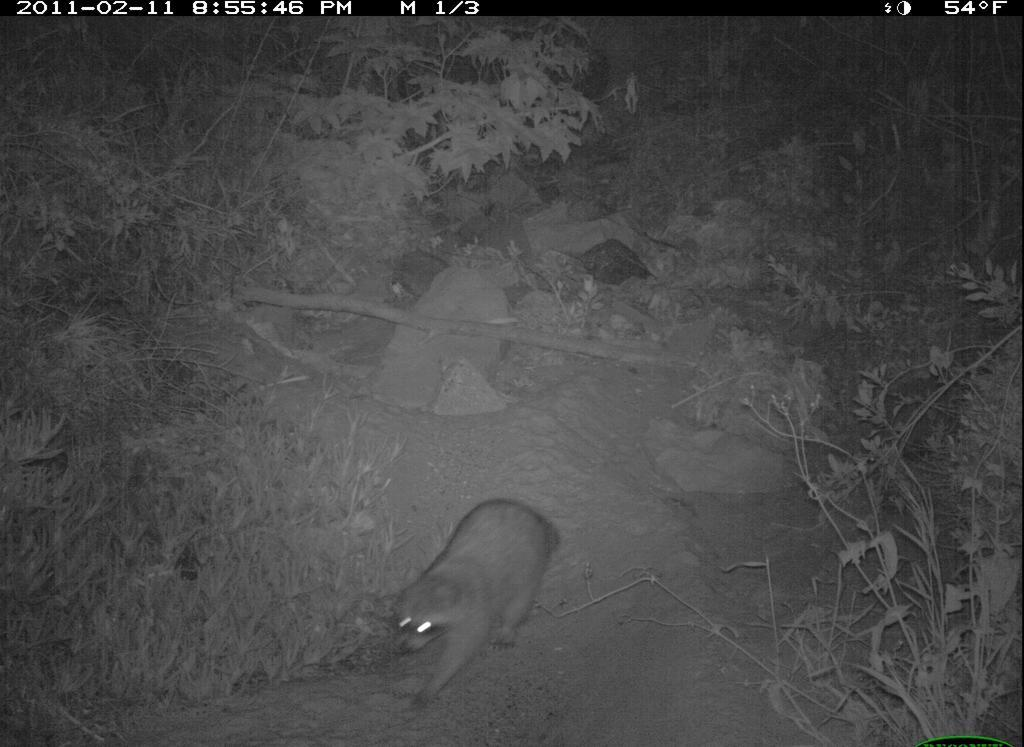raccoon: (379, 493, 574, 718)
